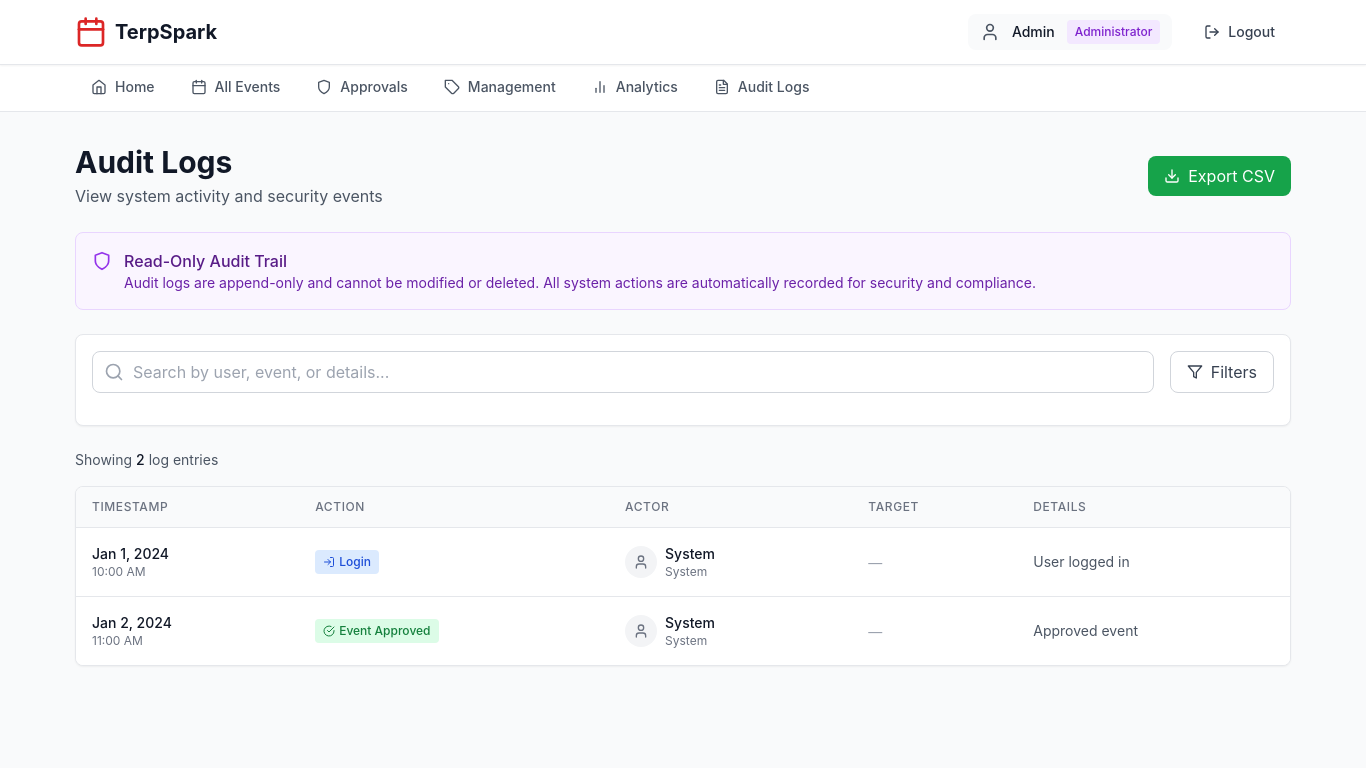
Scenario: AuditLogsPage › filters logs when search input changes and allows clearing filters
The width and height of the screenshot is (1366, 768).
Type "Alice" into the field with placeholder "Search by user, event, or details...".
click(623, 372); type("Alice")  # box x1=92 y1=351 x2=1154 y2=393
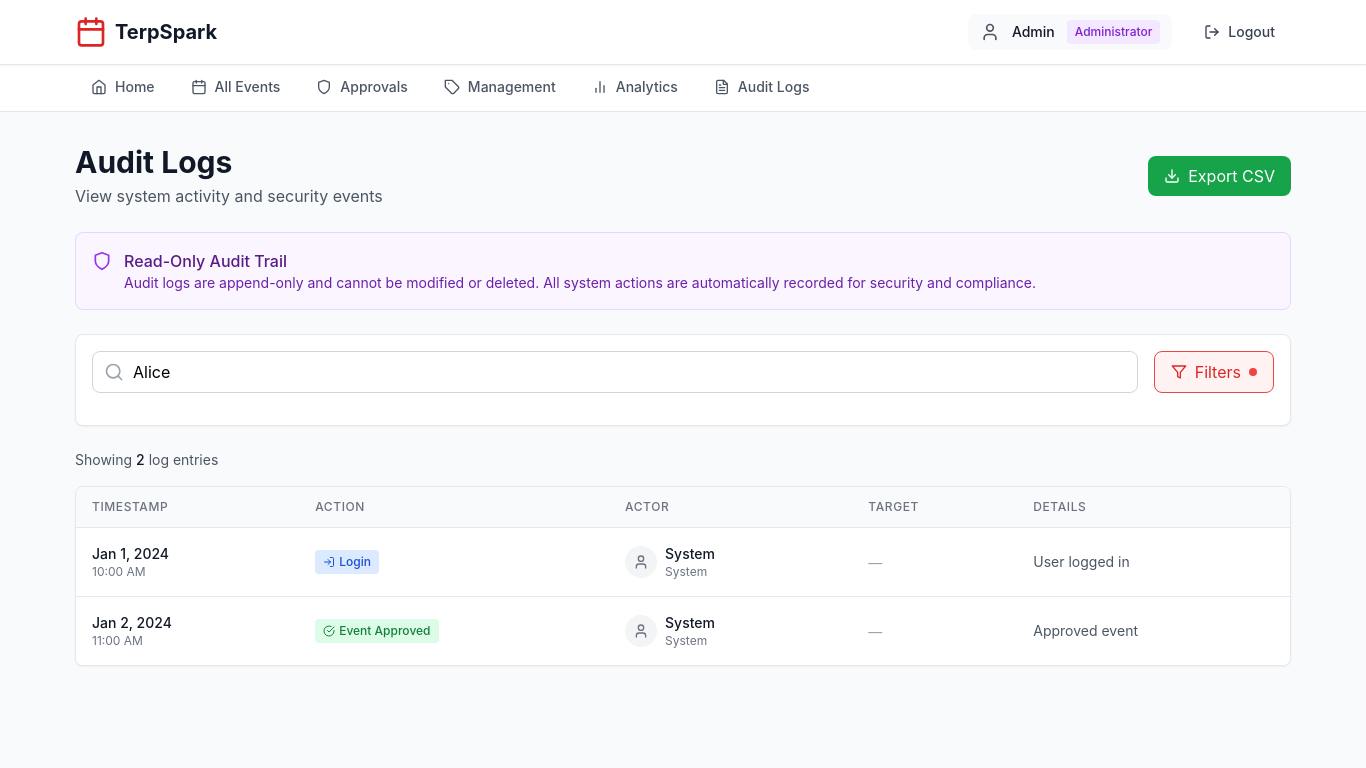
Click the button "Filters".
click(1214, 372)  # box x1=1154 y1=351 x2=1274 y2=393
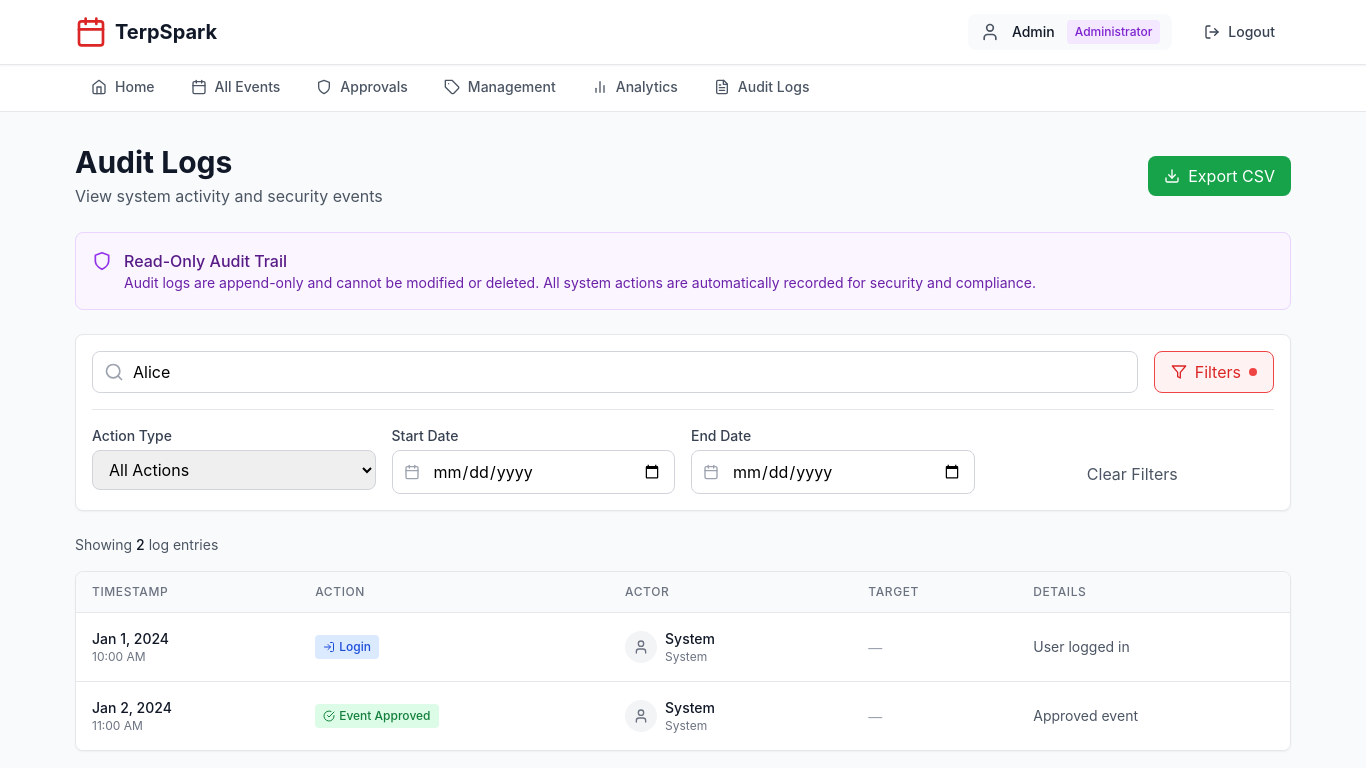
Select "User Logins" in the dropdown at (234, 470), box x1=92 y1=450 x2=376 y2=490
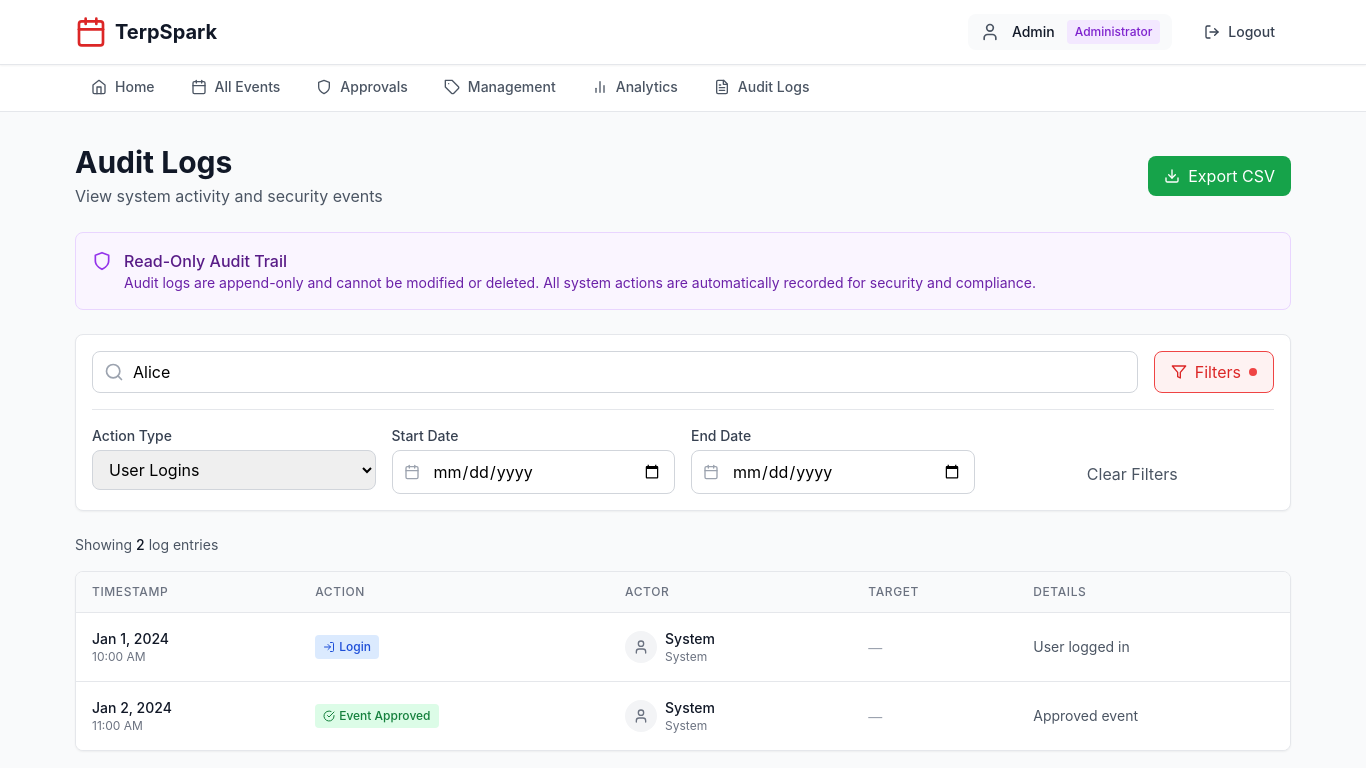
Click the button "Clear Filters".
click(1132, 474)  # box x1=990 y1=454 x2=1274 y2=494
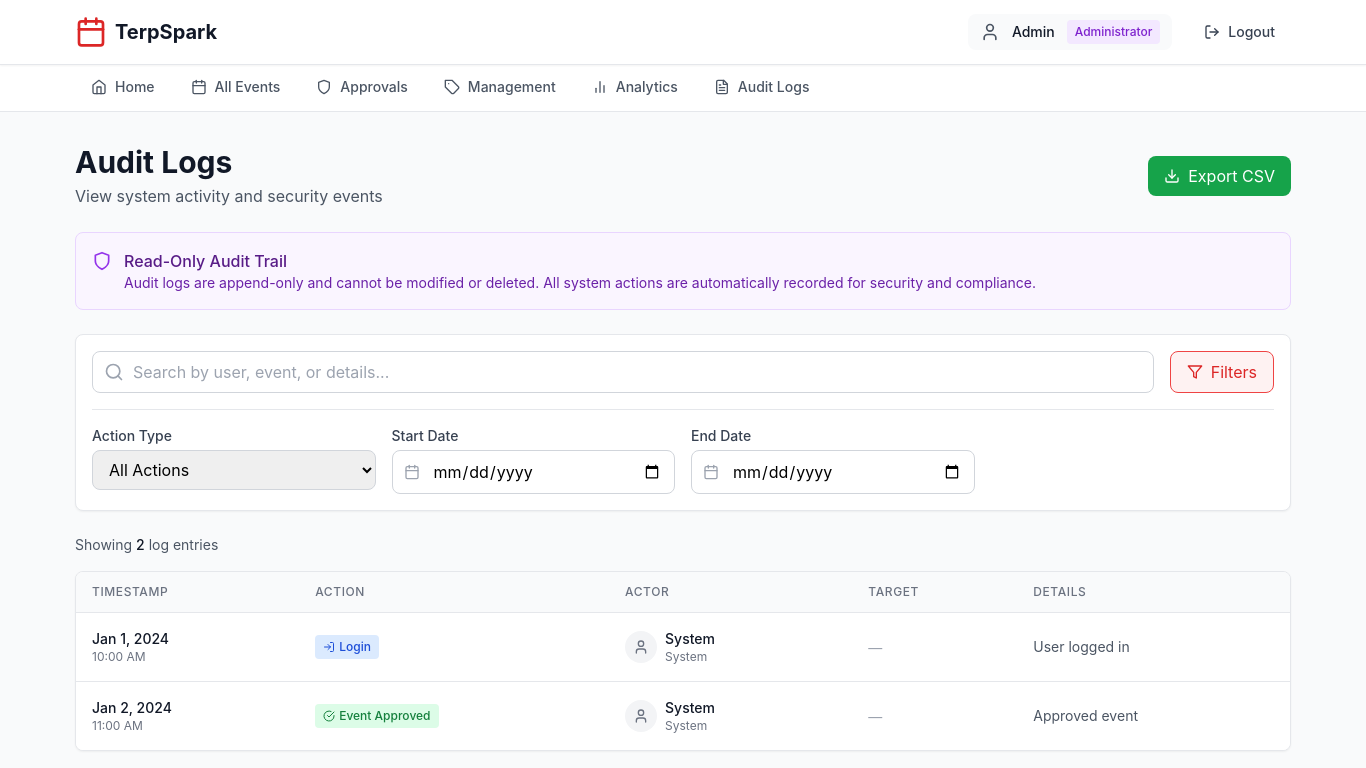
Now the field with placeholder "Search by user, event, or details..." is empty, box x1=92 y1=351 x2=1154 y2=393
